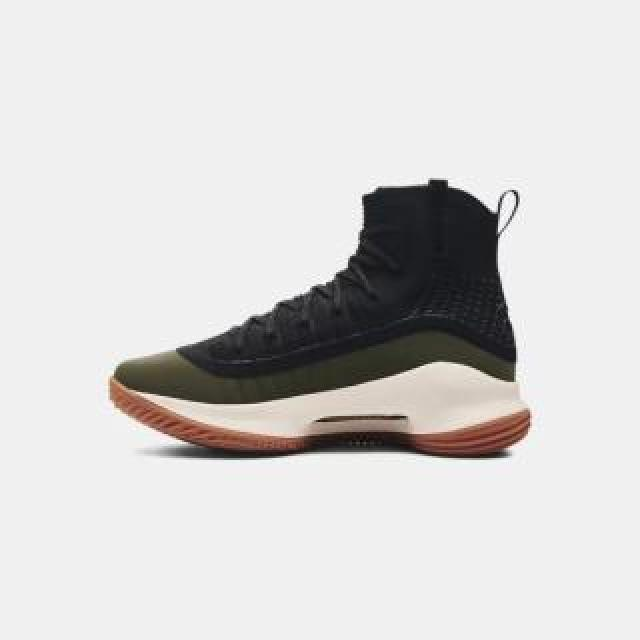shoes: (109, 180, 531, 456)
